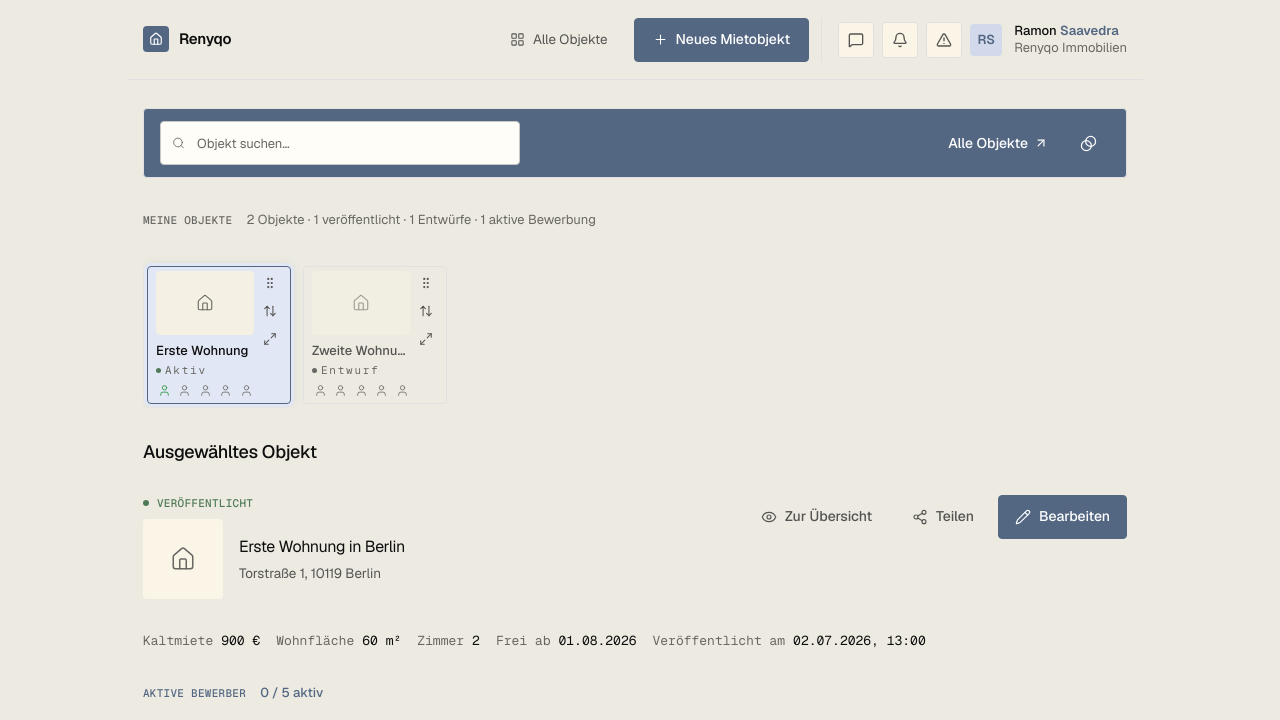
it: DashboardView › shows empty object selectors when the search has no matches
The image size is (1280, 720).
Check: the text "Saavedra" is shown, box [1060, 23, 1119, 39]
Type "nicht vorhanden" into the search field named "Objekte durchsuchen" at [340, 143], box [160, 121, 520, 165]
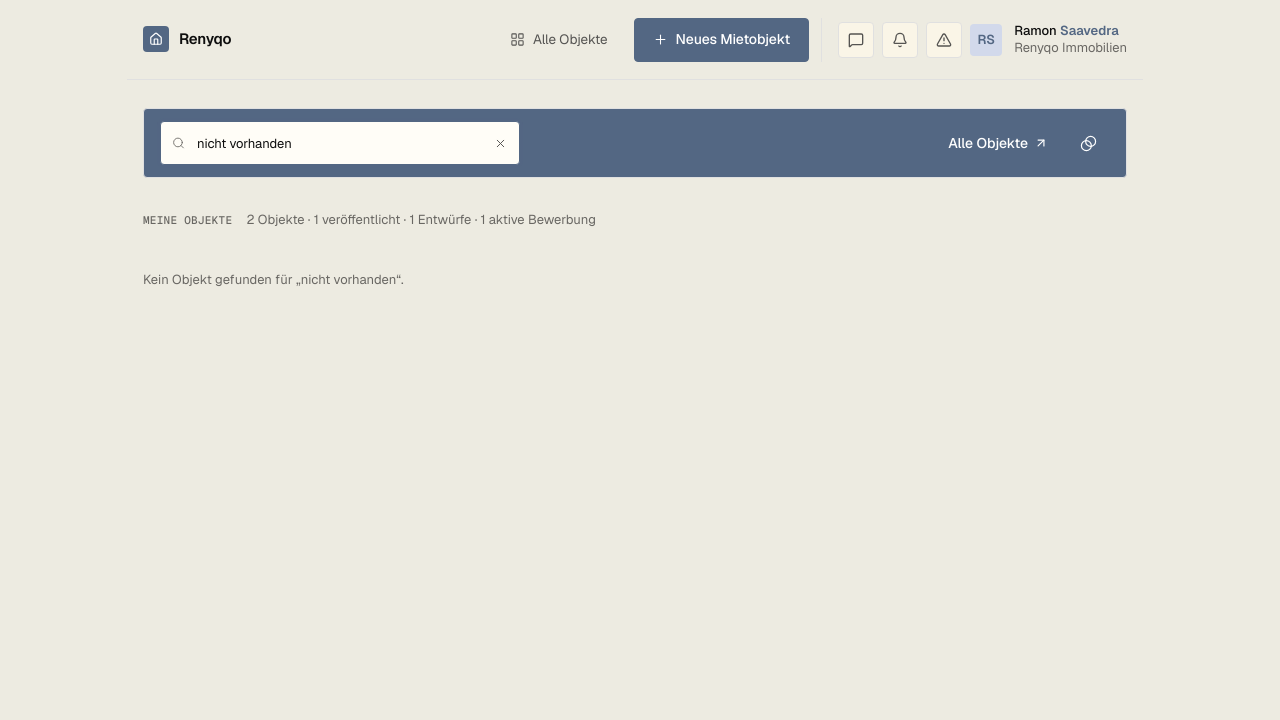
Check: the text "Kein Objekt gefunden für „nicht vorhanden“." is shown, box [143, 270, 404, 288]
